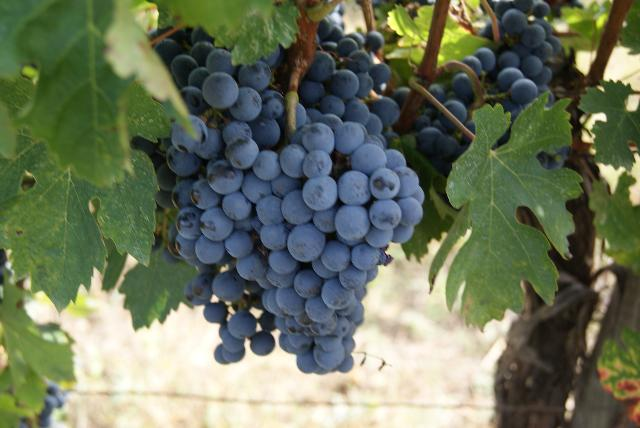grapes: (214, 116, 424, 374), (165, 40, 272, 265), (481, 0, 561, 106), (299, 18, 391, 106), (461, 41, 555, 122), (414, 99, 471, 175), (429, 72, 484, 132)
